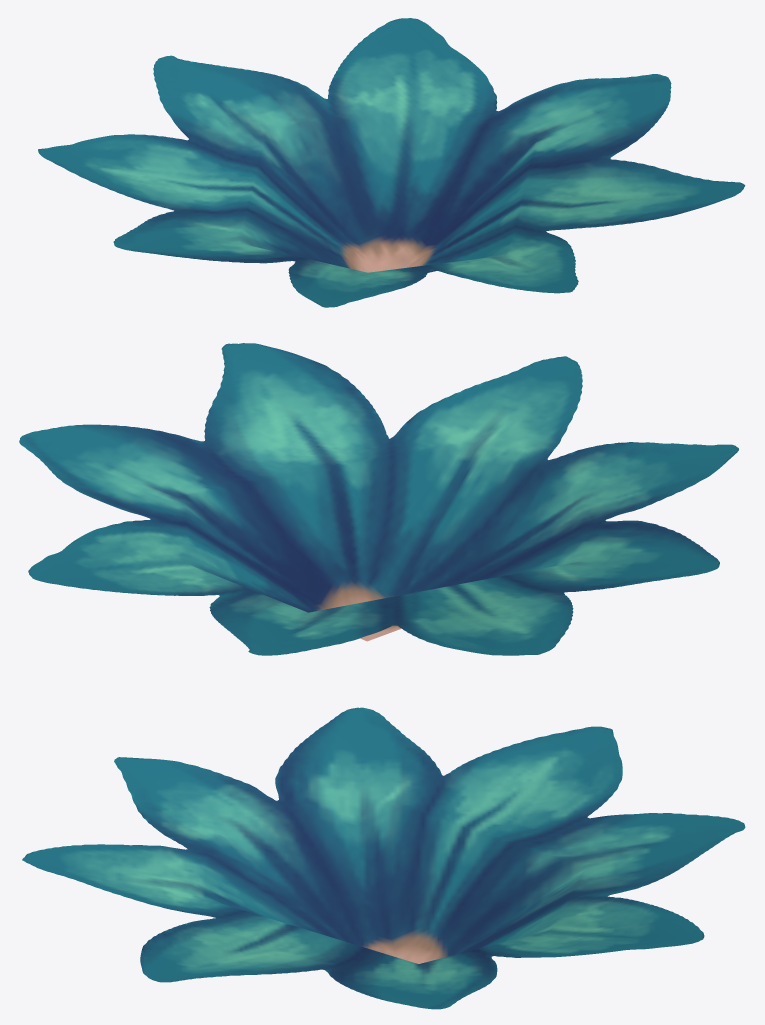
Rendered from F_Flower_01.fbx.
3 renders of one model, top to bottom at view 1: azimuth 30°, elevation 25°; view 2: azimuth 150°, elevation 25°; view 3: azimuth 270°, elevation 25°, orthographic. The views are drawn at different scales.
Visible parts, largest first — view 1: F_Flower_01; view 2: F_Flower_01; view 3: F_Flower_01.
Boxes of the visible parts, x1,y1,x2,y2 form: F_Flower_01: (38, 18, 745, 307); F_Flower_01: (19, 343, 738, 655); F_Flower_01: (22, 707, 745, 1009).
Size of the model in its own units: 155 by 30.54 by 158.
